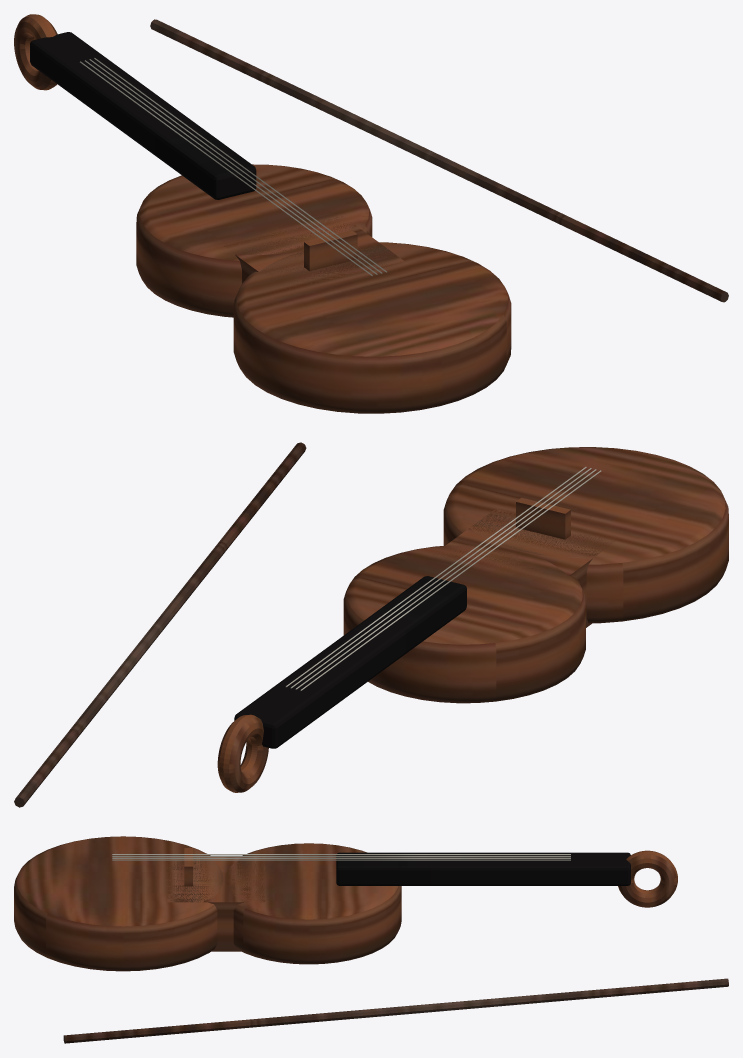
The model's file is MU05_Violin.glb.
3 renders of one model, top to bottom at view 1: azimuth 30°, elevation 25°; view 2: azimuth 150°, elevation 25°; view 3: azimuth 270°, elevation 25°, orthographic. The views are drawn at different scales.
Visible parts, largest first — view 1: MU05_Violin; view 2: MU05_Violin; view 3: MU05_Violin.
Boxes of the visible parts, box(x1,y1,x2,y2) form: MU05_Violin: box(14, 14, 728, 413); MU05_Violin: box(14, 442, 728, 807); MU05_Violin: box(14, 836, 728, 1043).
Bounding box in the file's own units: 0.335 × 0.0715 × 0.6.
4 materials, 4 textured.
